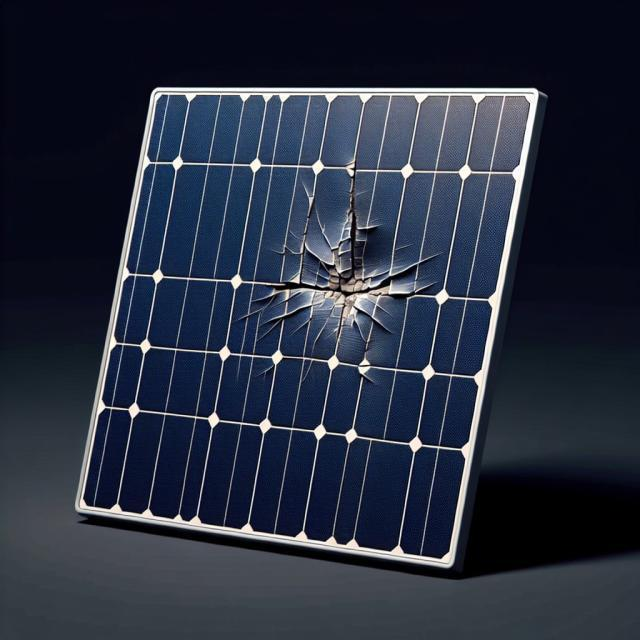Anomaly Solar Panel: (81, 30, 532, 571)
Structural Damage: (222, 160, 462, 400)
